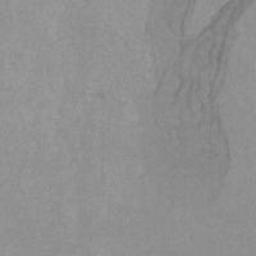Water spot: (132, 0, 256, 210)
